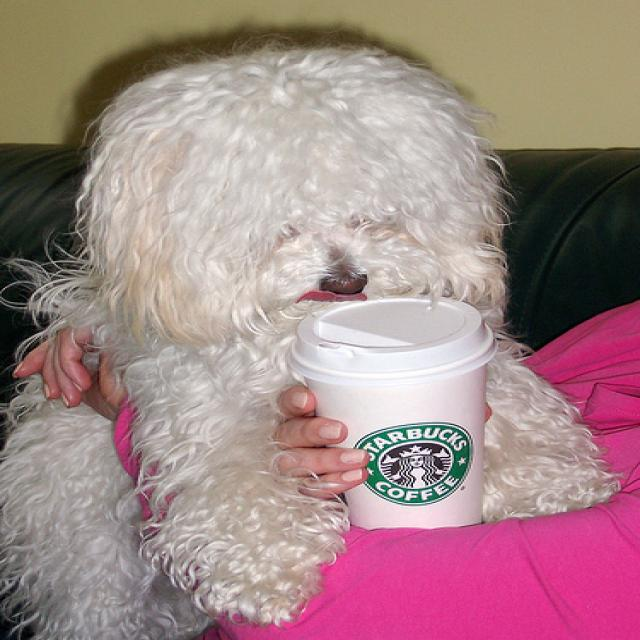dog-havanese: (2, 42, 633, 637)
